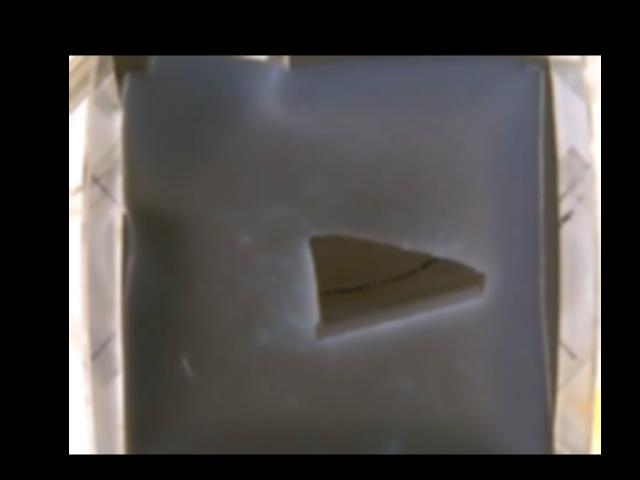China: (305, 235, 487, 341)
